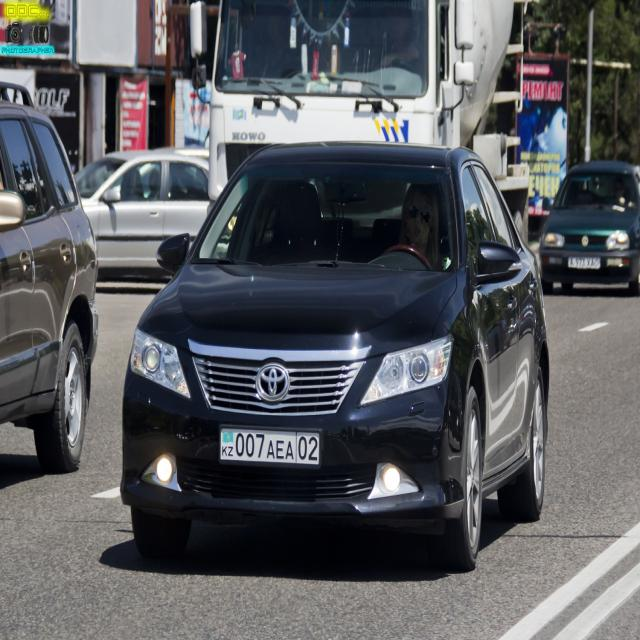car: (119, 140, 550, 571), (0, 83, 99, 473), (74, 147, 211, 277), (538, 160, 640, 294)
license: (218, 426, 322, 467)
